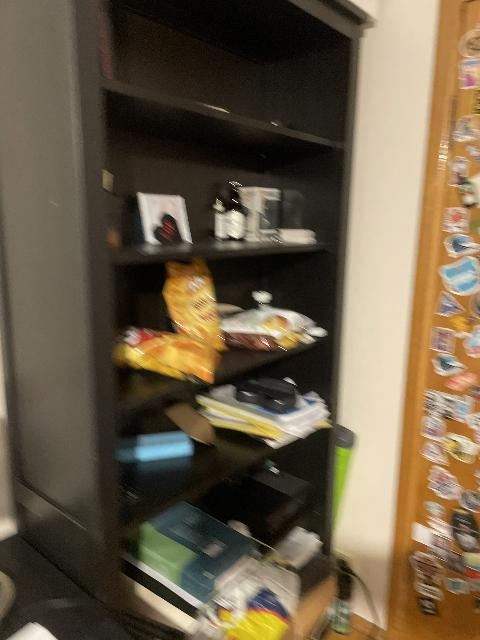Chio Cascaval 125g: (112, 326, 222, 387)
Chio Hula Hoops Cheese 70g: (162, 259, 228, 352)
Lays Beef Grilled Ribs 125g: (217, 291, 324, 350)
